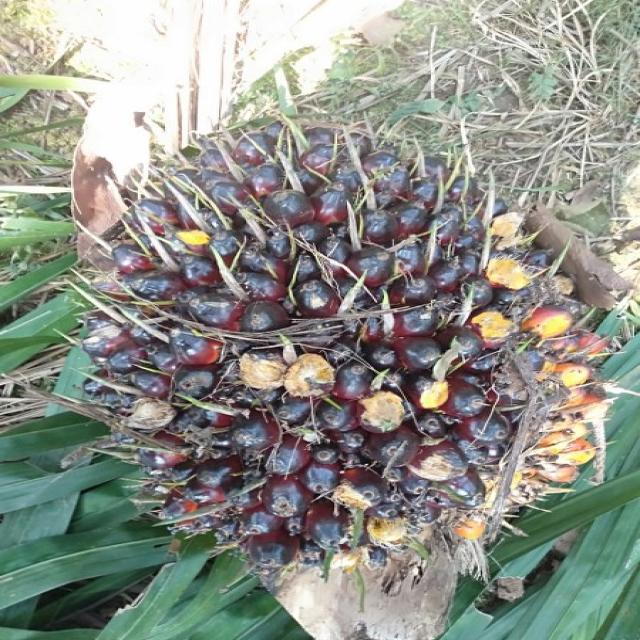fraksi 00: (10, 88, 628, 611)
